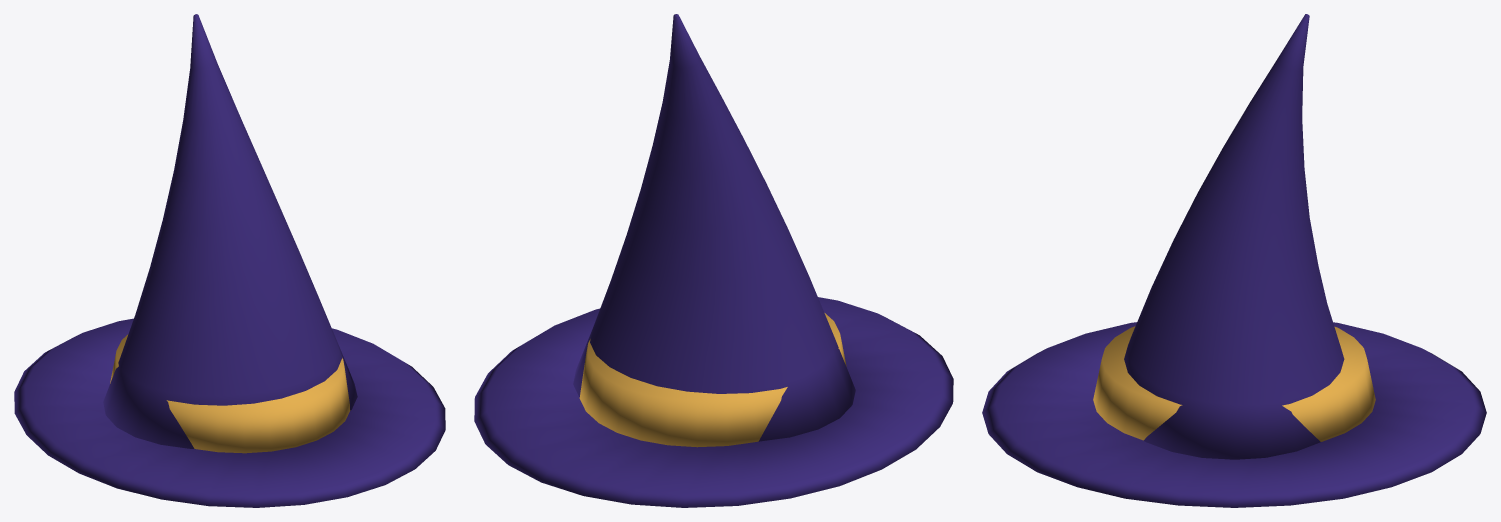
Rendered from wizard_hat.glb.
3 views of the same model, side by side, from view 1: azimuth 30°, elevation 25°; view 2: azimuth 150°, elevation 25°; view 3: azimuth 270°, elevation 25° (orthographic). The views are drawn at different scales.
Visible parts, largest first — view 1: wizard_hat; view 2: wizard_hat; view 3: wizard_hat.
Boxes of the visible parts, bbox=[...] form: wizard_hat: bbox=[14, 14, 445, 507]; wizard_hat: bbox=[474, 14, 953, 507]; wizard_hat: bbox=[982, 14, 1486, 507].
Bounding box in the file's own units: 0.3799 × 0.3711 × 0.4258.
